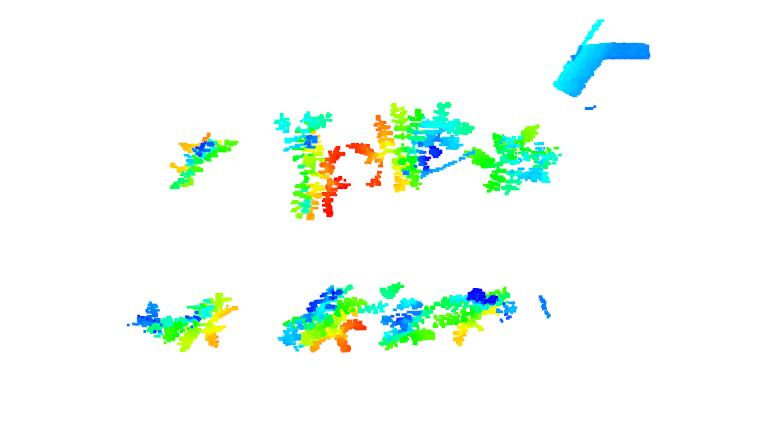chickpea: (346, 98, 478, 195), (274, 108, 352, 221), (464, 123, 564, 198), (124, 290, 241, 352), (276, 282, 366, 357), (431, 286, 517, 345), (364, 283, 435, 351), (167, 130, 240, 192)
